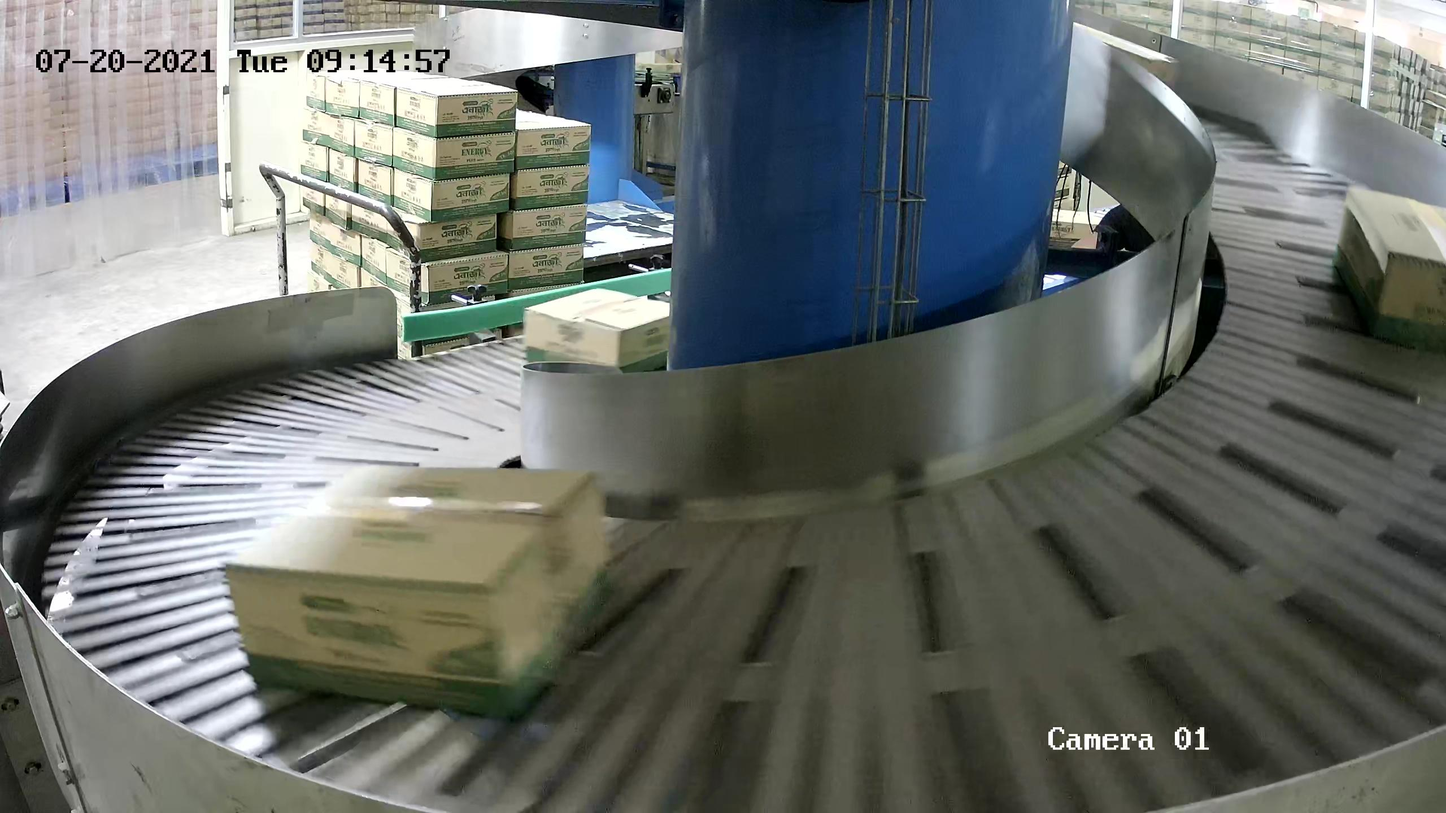Box: (219, 457, 613, 721), (1331, 184, 1446, 349), (522, 286, 671, 382)
